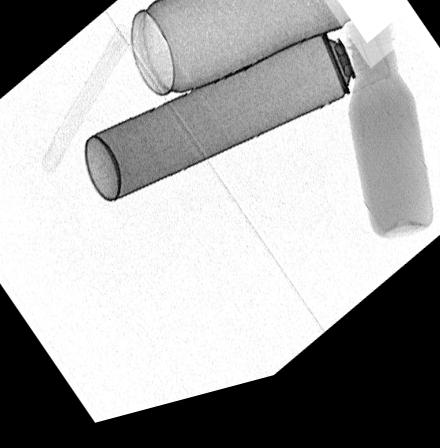Sprayer: (83, 35, 390, 207)
